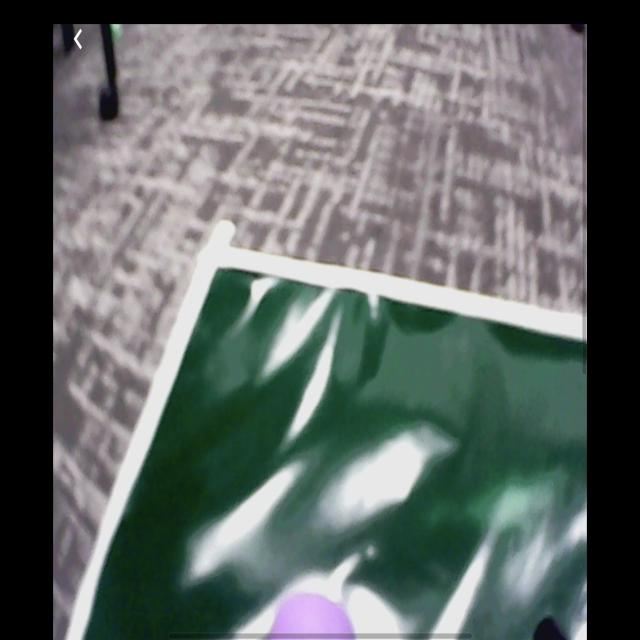ball: (273, 594, 355, 639)
